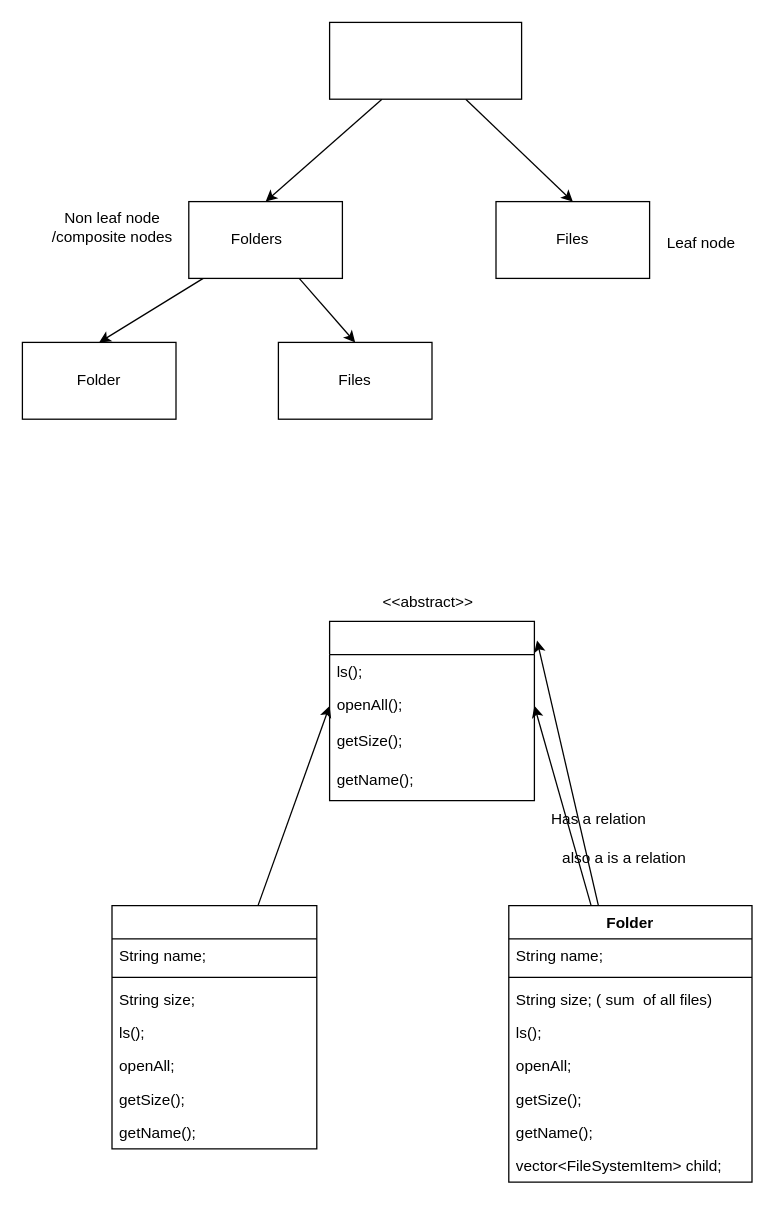
This 774x1208 diagram has some shape labels left out. Here are the shapes that lost their labels. From the top down, the box of each, then its label:
(328, 21, 522, 99): File System
(328, 620, 534, 801): FileSystemItem
(111, 904, 317, 1149): File
